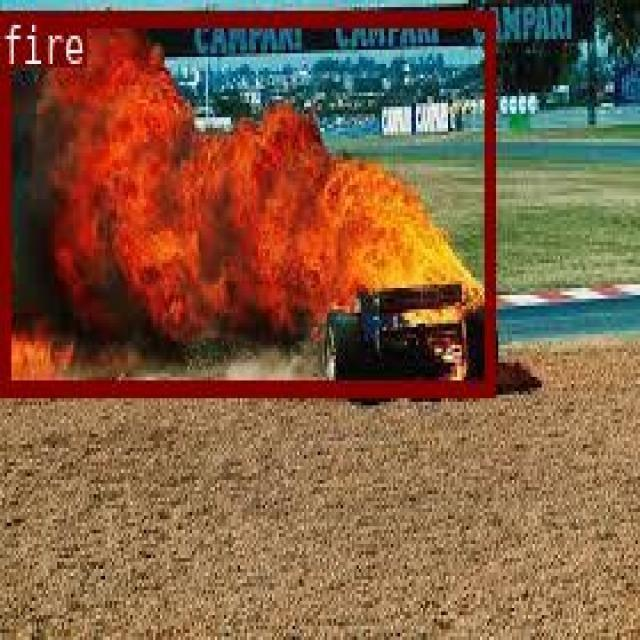fire: (0, 9, 494, 393)
